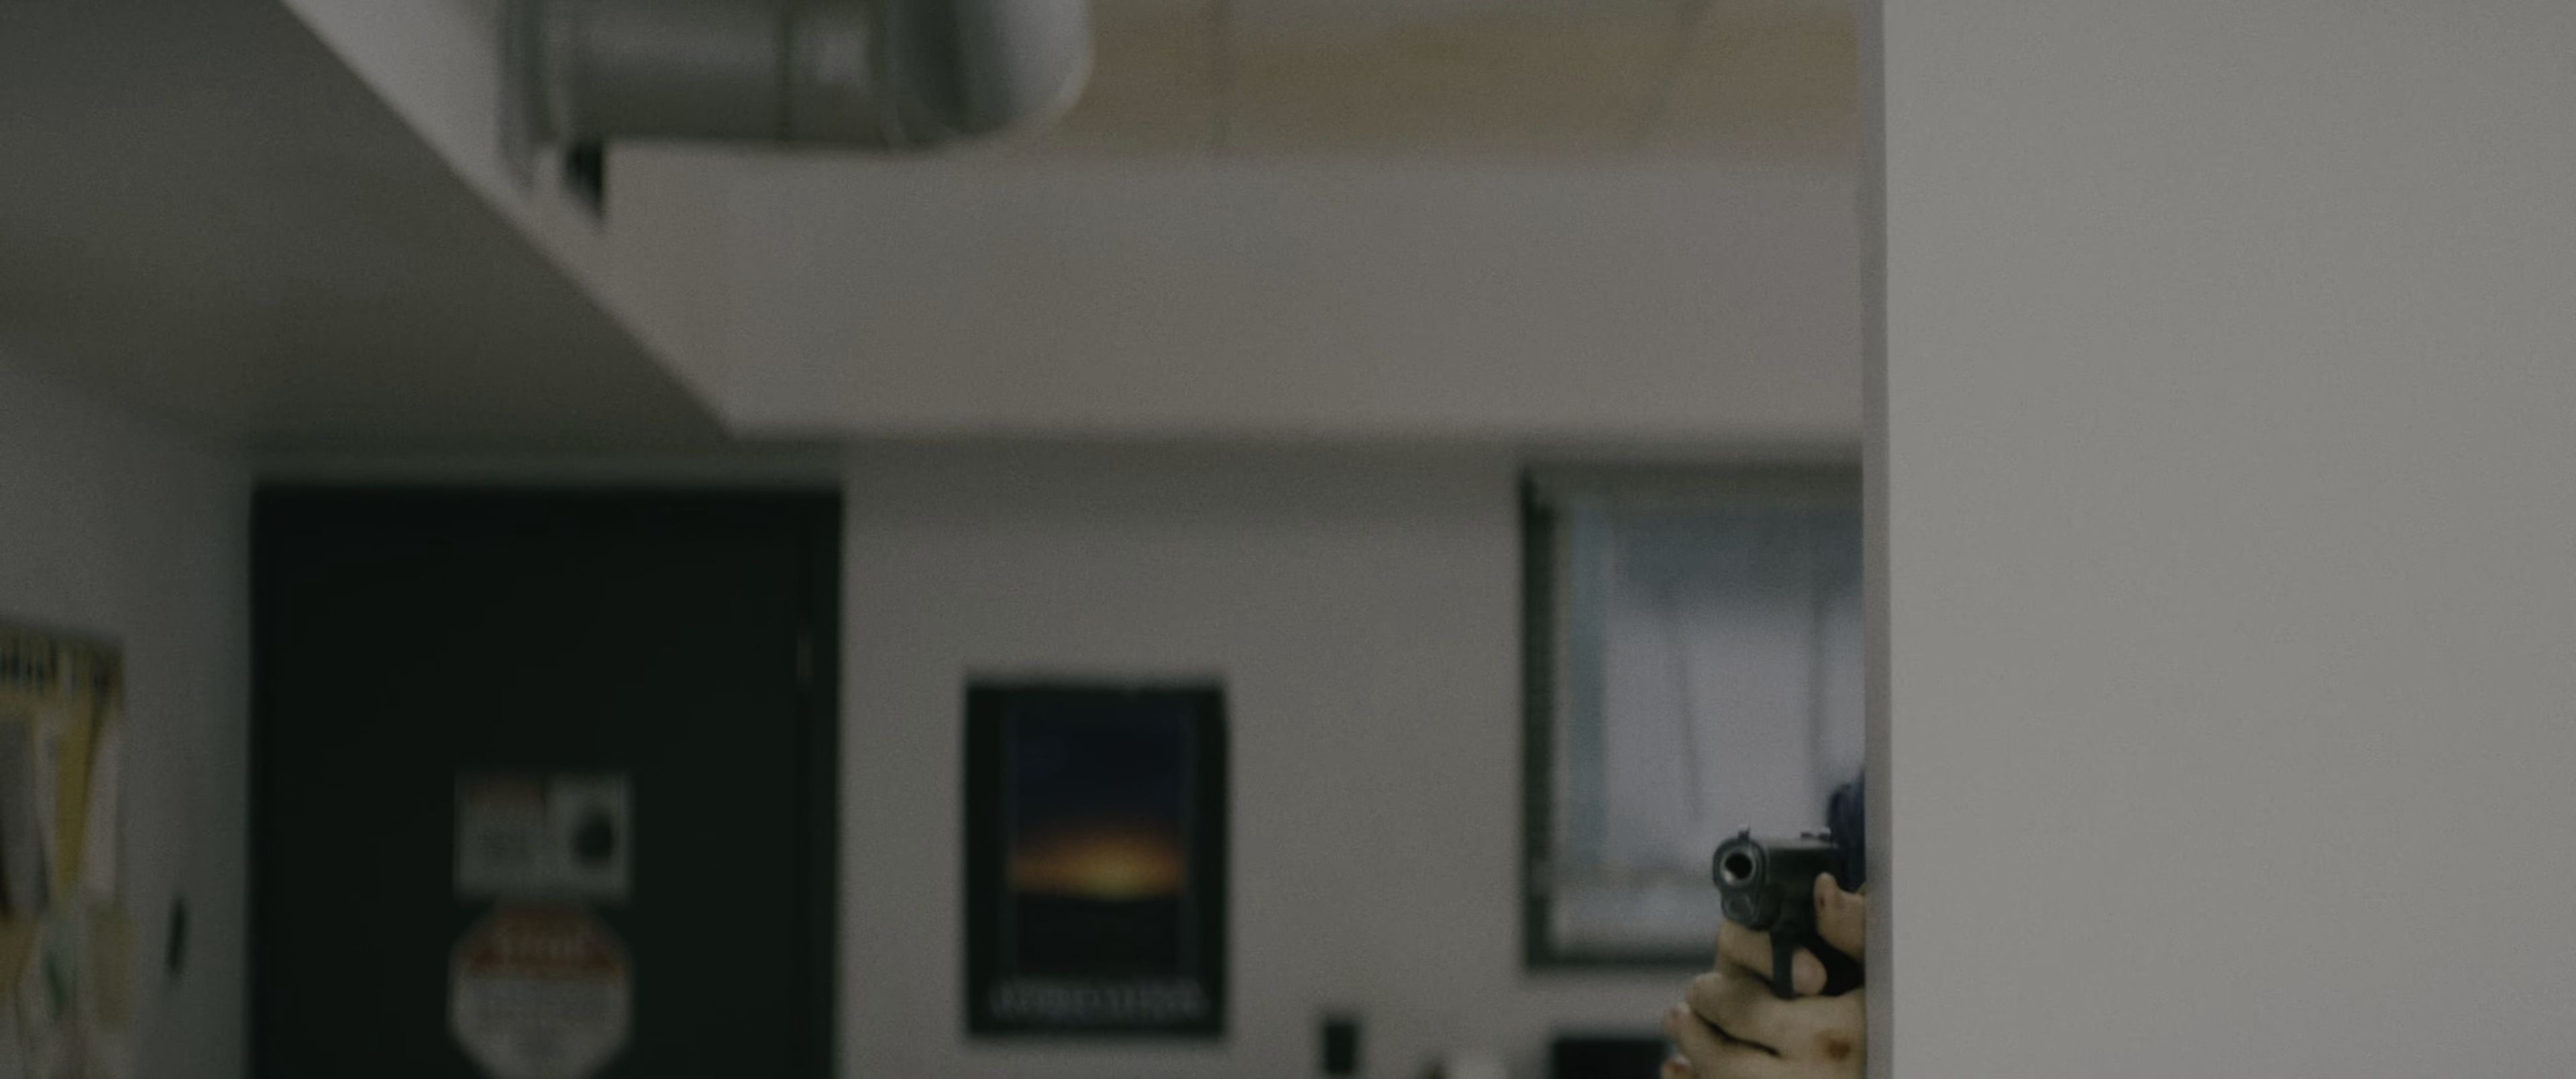gun: (1710, 821, 1868, 1003)
p_w_gun: (1661, 780, 1866, 1079)
